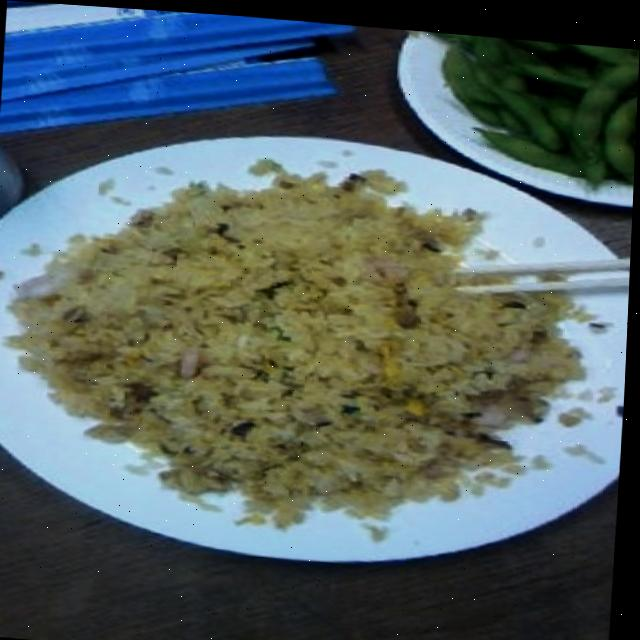米饭主食: (10, 137, 602, 548)
